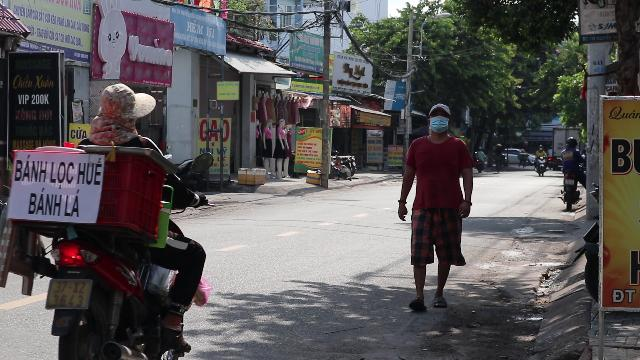licenseplate: (46, 279, 90, 307)
motorcyclist: (0, 83, 212, 359)
nohelmet: (90, 82, 156, 140)
